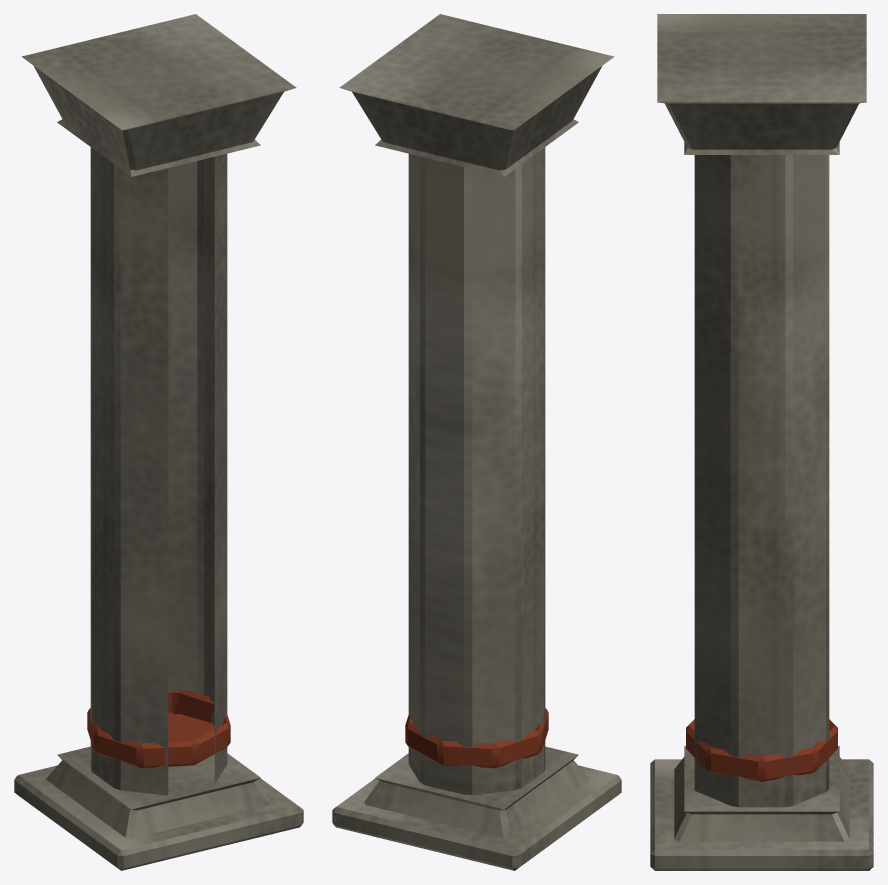
The model's file is WK_ARCH_COLUMN_A_01.glb.
3 views of the same model, side by side, from view 1: azimuth 30°, elevation 25°; view 2: azimuth 150°, elevation 25°; view 3: azimuth 270°, elevation 25° (orthographic). The views are drawn at different scales.
Parts seen in each view (by area): view 1: WK_ARCH_COLUMN_A_01; view 2: WK_ARCH_COLUMN_A_01; view 3: WK_ARCH_COLUMN_A_01.
Boxes of the visible parts, left/top/right/bottom form: WK_ARCH_COLUMN_A_01: left=14, top=14, right=303, bottom=870; WK_ARCH_COLUMN_A_01: left=332, top=14, right=621, bottom=870; WK_ARCH_COLUMN_A_01: left=650, top=14, right=873, bottom=870.
Bounding box in the file's own units: 0.95 × 3.6 × 0.95.
Materials: 2 (2 with a texture image).
